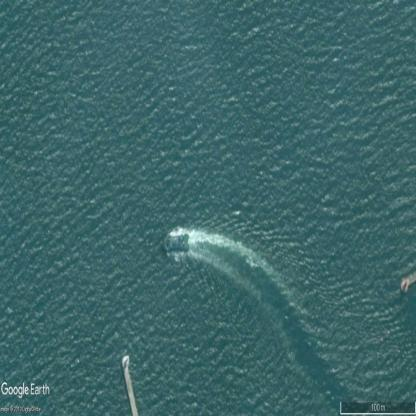ship: (162, 232, 188, 252)
